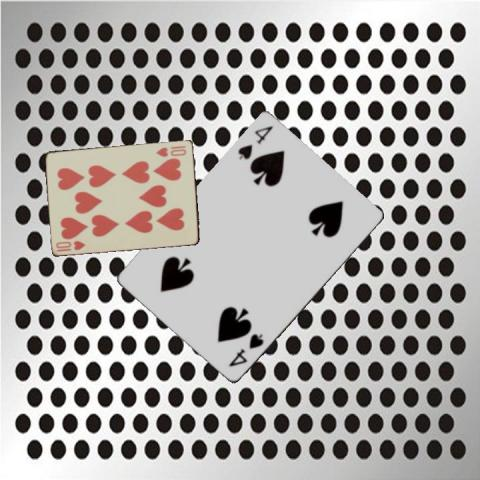10h: (53, 237, 87, 253), (153, 143, 188, 158)
4s: (234, 123, 274, 162), (226, 330, 266, 368)
